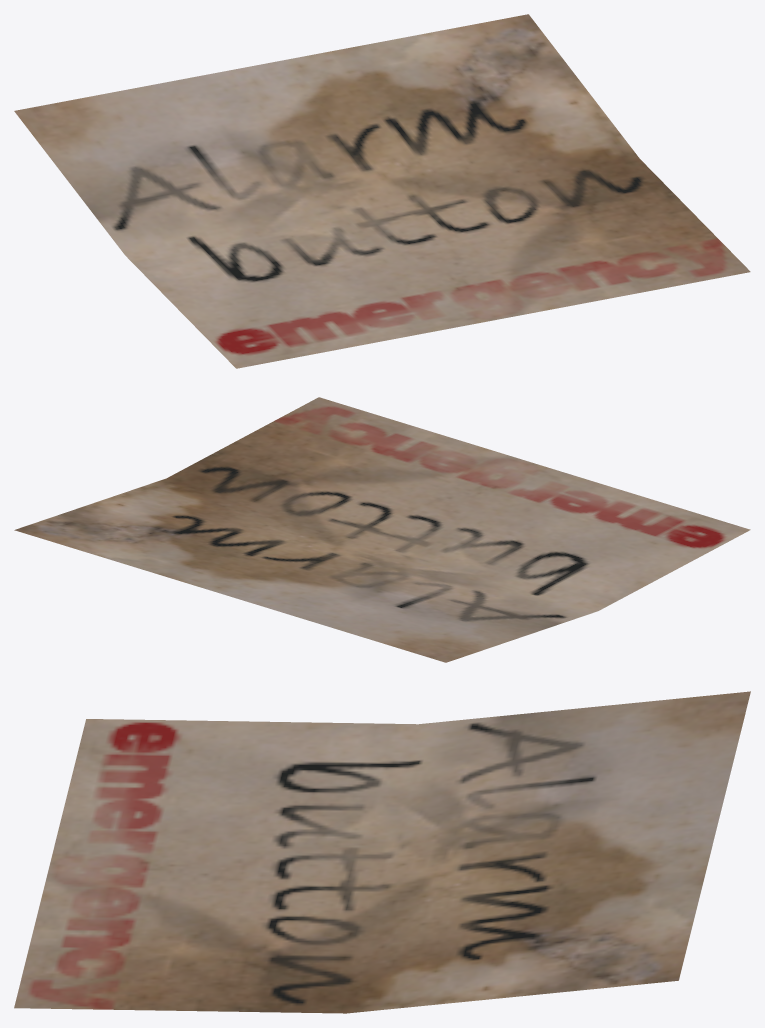
The model's file is Alarm.FBX.
3 views of the same model, one above another, from view 1: azimuth 30°, elevation 25°; view 2: azimuth 150°, elevation 25°; view 3: azimuth 270°, elevation 25° (orthographic). The views are drawn at different scales.
Parts seen in each view (by area): view 1: Alarm; view 2: Alarm; view 3: Alarm.
Boxes of the visible parts, x1,y1,x2,y2 form: Alarm: (14,14,750,368); Alarm: (14,397,750,662); Alarm: (14,691,750,1013).
Size of the model in its own units: 12.84 by 1.07 by 12.54.
